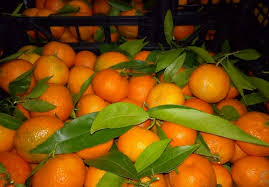orange: (13, 117, 68, 158), (111, 122, 163, 160), (190, 59, 233, 104), (29, 81, 75, 120), (146, 79, 188, 110), (32, 54, 71, 86), (92, 68, 130, 100)
